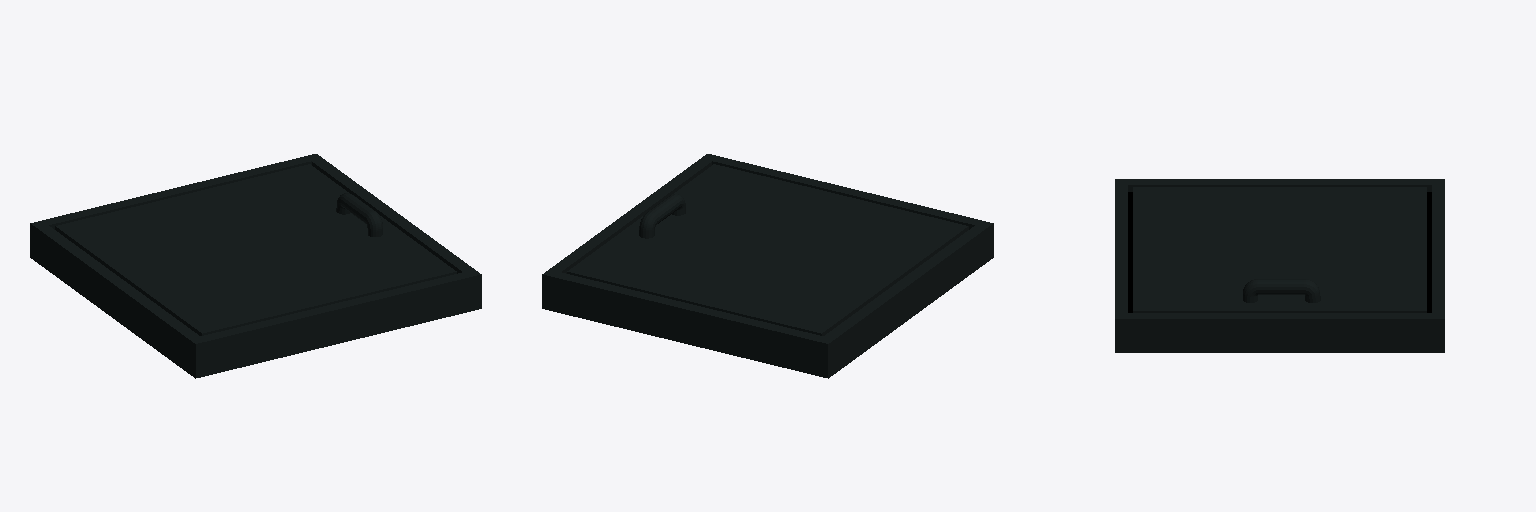
File: luck.obj
3 renders of one model, left to right at view 1: azimuth 30°, elevation 25°; view 2: azimuth 150°, elevation 25°; view 3: azimuth 270°, elevation 25°, orthographic.
Visible parts, largest first — view 1: Cube, Cylinder; view 2: Cube, Cylinder; view 3: Cube, Cylinder.
Boxes of the visible parts, x1,y1,x2,y2 form: Cube: [30, 154, 481, 378]; Cylinder: [336, 193, 382, 236]; Cube: [542, 154, 993, 378]; Cylinder: [639, 194, 685, 238]; Cube: [1115, 179, 1444, 352]; Cylinder: [1243, 279, 1320, 302].
Bounding box in the file's own units: 2 × 0.3658 × 2.